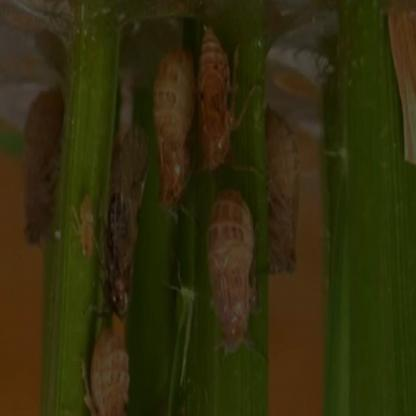brown-planthopper: (204, 188, 254, 356), (21, 78, 65, 250), (150, 40, 193, 206), (262, 101, 298, 278), (198, 28, 234, 174), (74, 192, 96, 258)
